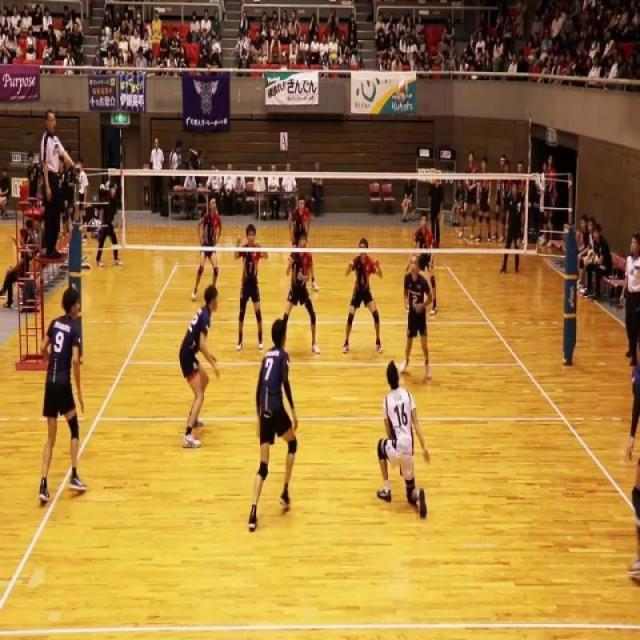volleyball: (396, 76, 408, 101)
